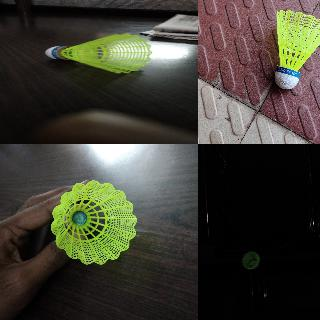shuttlecock: (50, 180, 136, 264), (45, 33, 151, 73), (274, 10, 319, 90), (241, 251, 259, 269)
